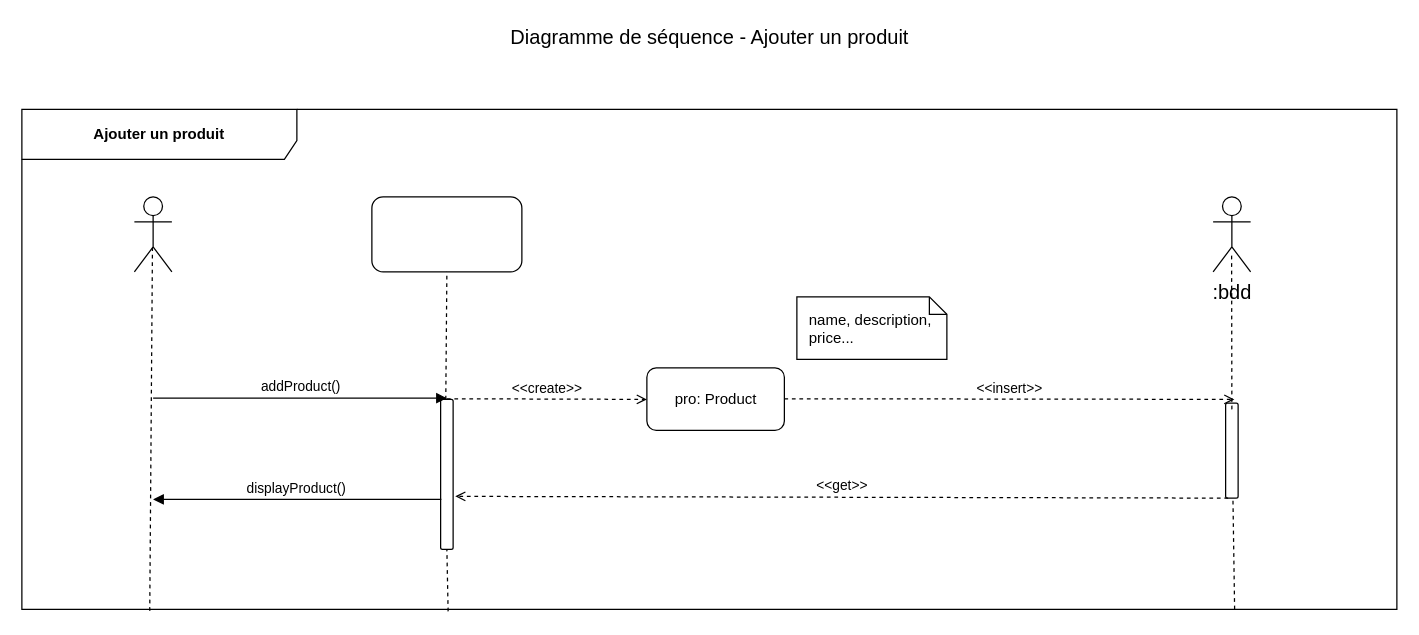
The diagram is 1419 pixels wide and 635 high, and some of its shapes have lost their labels. The centre of each missing label's shape, as x and y in pixels:
:system: (446,234)
:utilisateur: (152,234)
